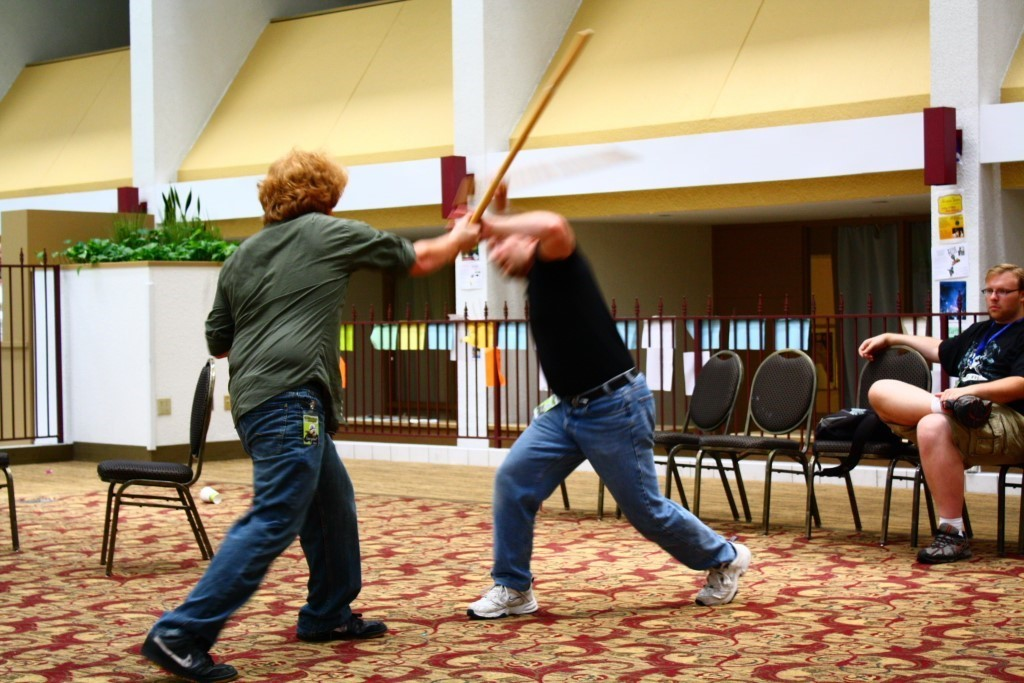baston_e: (475, 39, 585, 223)
baston_v: (575, 23, 594, 43)
